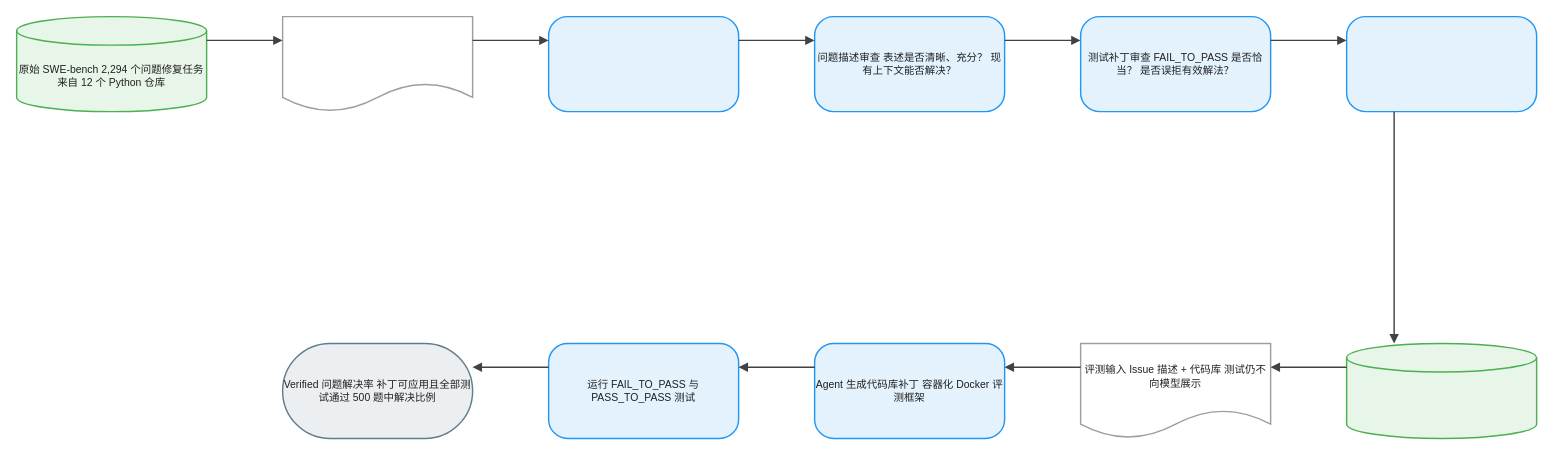
This 1554x456 diagram has some shape labels left out. The shapes that lost their labels are listed below. From the top down, each one's centre as x and y in pixels, then its label:
At point (377, 63): "人工审查候选池 随机抽取 1,699 个测试样本".
At point (643, 63): "93 位专业软件开发者 具备 Python 经验".
At point (1441, 63): "移除问题任务 含糊 / 无法解决的 Issue 错误或过严的测试".
At point (1441, 390): "SWE-bench Verified 500 个人工验证任务 同步发布难度标注".
